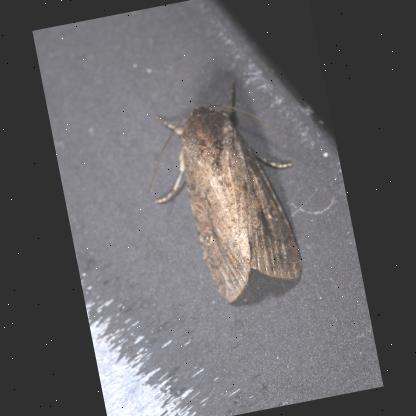Fall Armyworm Moth: (124, 64, 322, 320)
